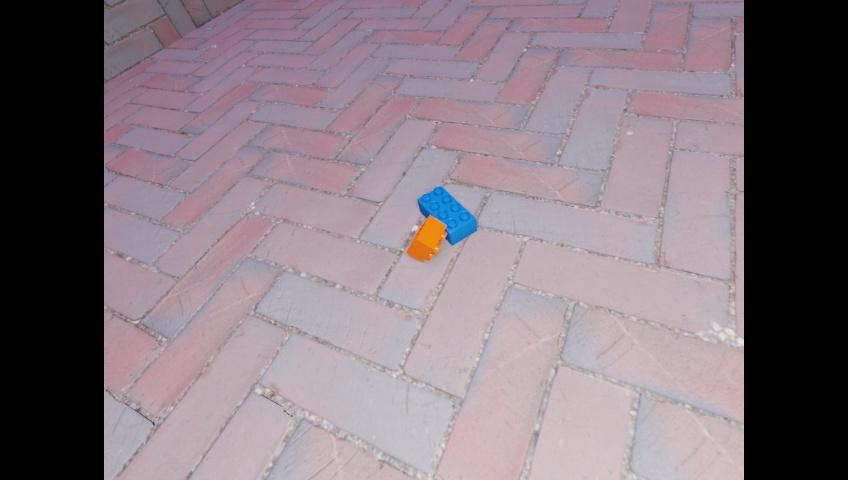2x2_orange: (406, 214, 446, 262)
4x2_blue: (417, 185, 476, 245)
